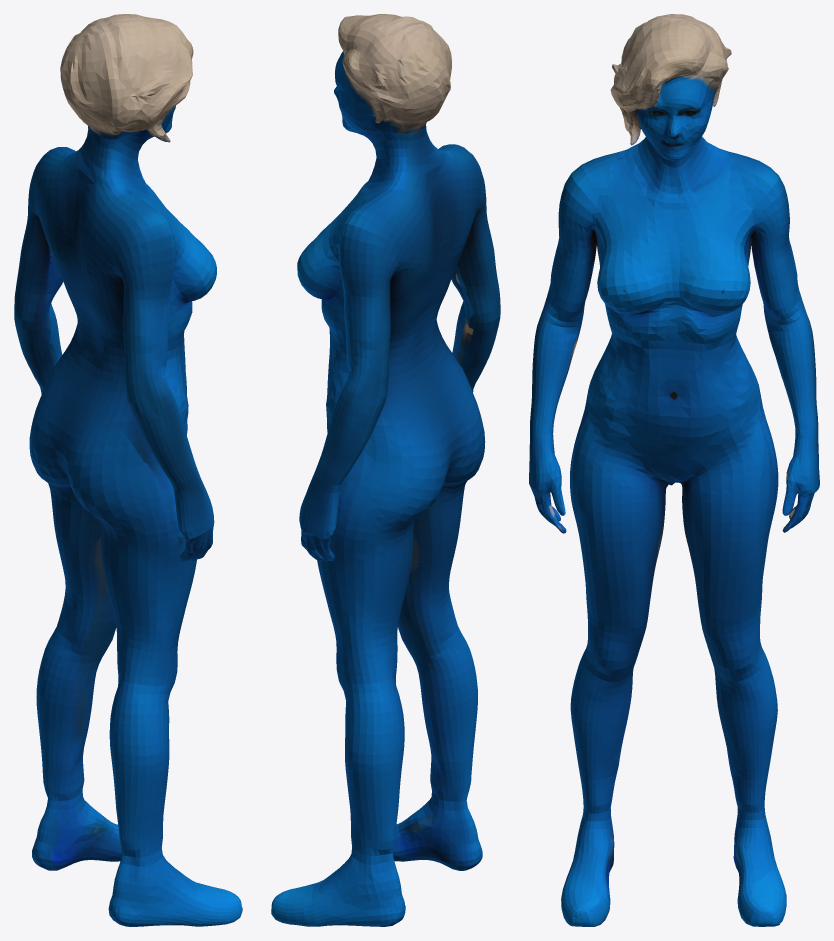
File: auria_improved.glb
The picture shows the model from 3 angles, left to right: view 1: azimuth 30°, elevation 25°; view 2: azimuth 150°, elevation 25°; view 3: azimuth 270°, elevation 25°; orthographic projection.
Parts seen in each view (by area): view 1: tripo_node_57fbe7ca-51f8-4323-b294-57df5d34f798; view 2: tripo_node_57fbe7ca-51f8-4323-b294-57df5d34f798; view 3: tripo_node_57fbe7ca-51f8-4323-b294-57df5d34f798.
Boxes of the visible parts, x1,y1,x2,y2 form: tripo_node_57fbe7ca-51f8-4323-b294-57df5d34f798: [14, 14, 242, 926]; tripo_node_57fbe7ca-51f8-4323-b294-57df5d34f798: [271, 14, 500, 926]; tripo_node_57fbe7ca-51f8-4323-b294-57df5d34f798: [529, 14, 819, 926].
Size of the model in its own units: 0.1669 by 0.999 by 0.3009.
1 material, 1 textured.
